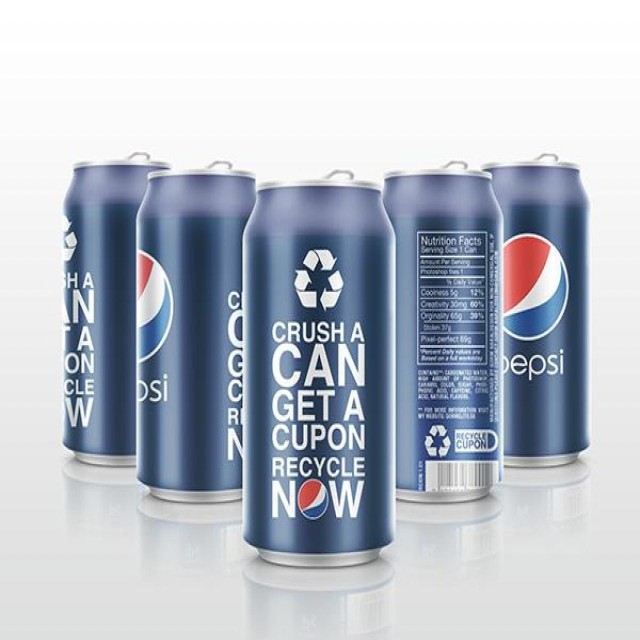pepsi: (498, 234, 572, 344), (297, 475, 329, 519)
